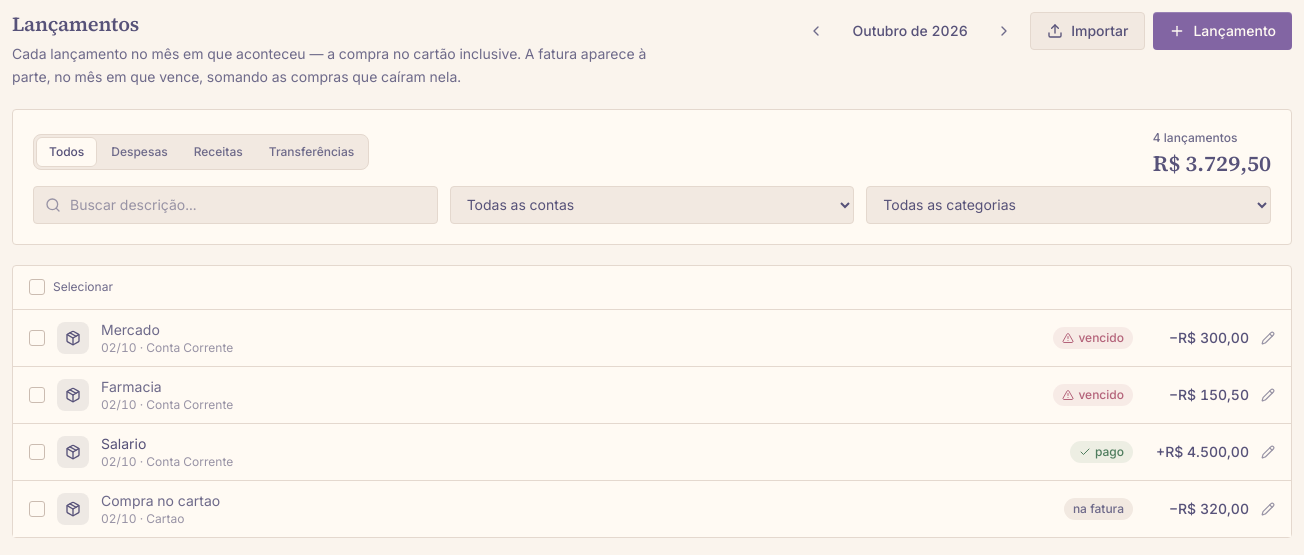
Test: seleção de lançamentos › marcar duas despesas mostra quantas são e quanto somam, e o leitor de tela ouve
Click the checkbox named "Selecionar Mercado, ". click: (37, 338)
box: [29,330,45,346]
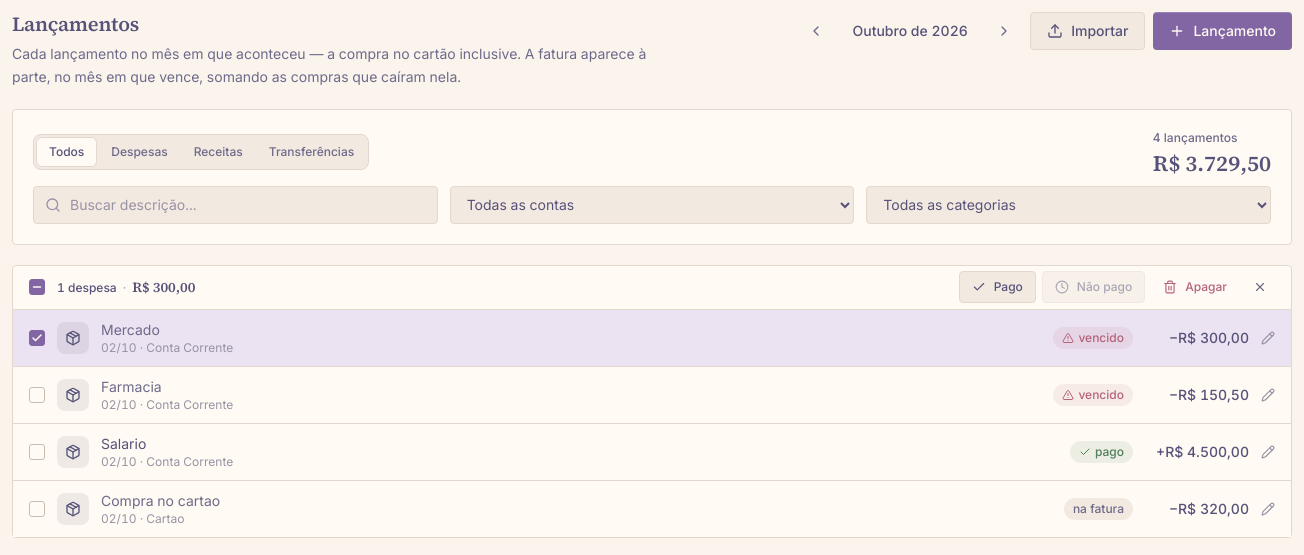
Click the checkbox named "Selecionar Farmacia, 02/10, R$ 150,50". click: (37, 394)
box: [29,386,45,402]
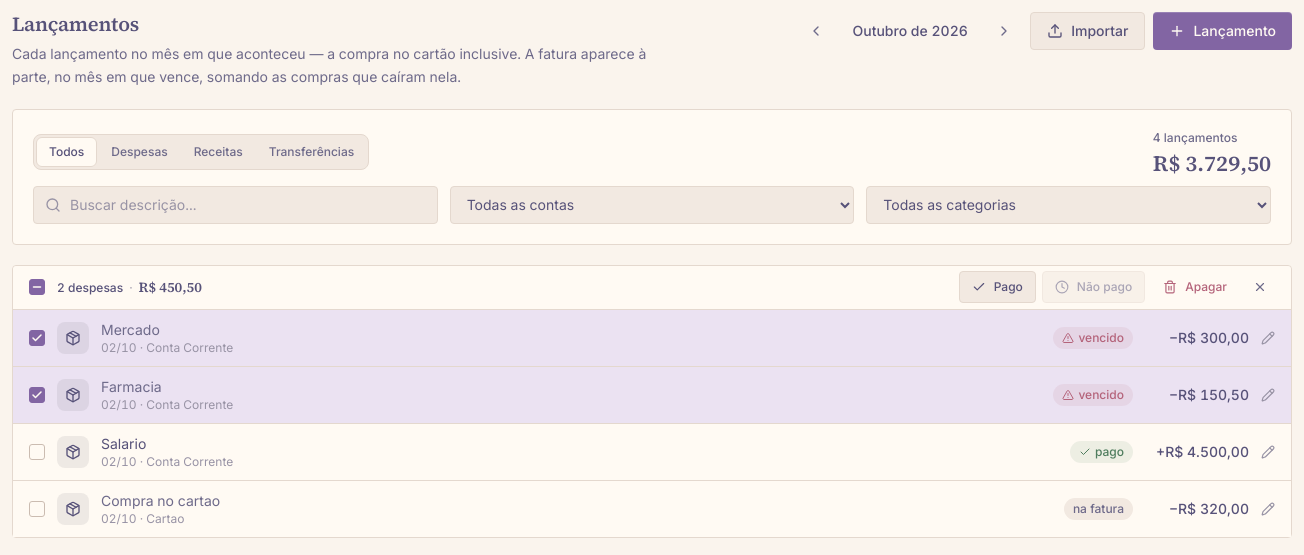
expect the text "2 despesas" is shown: met, box [57,280,123,296]
